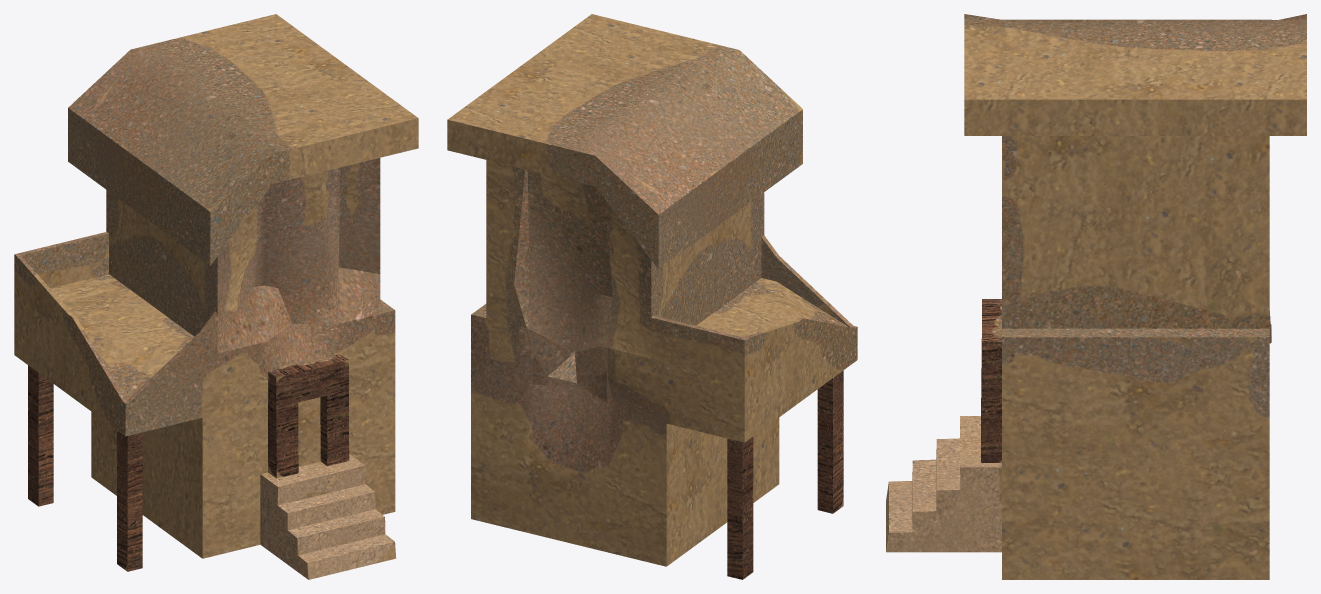
The model's file is building 5.glb.
3 views of the same model, side by side, from view 1: azimuth 30°, elevation 25°; view 2: azimuth 150°, elevation 25°; view 3: azimuth 270°, elevation 25° (orthographic). The views are drawn at different scales.
Visible parts, largest first — view 1: Cube.004; view 2: Cube.004; view 3: Cube.004.
Part boxes in pixels (<box>): Cube.004: <box>14,14,418,579</box>; Cube.004: <box>447,14,857,579</box>; Cube.004: <box>886,14,1306,579</box>.
Bounding box in the file's own units: 10.08 × 14.01 × 11.01.
1 material, 1 textured.
